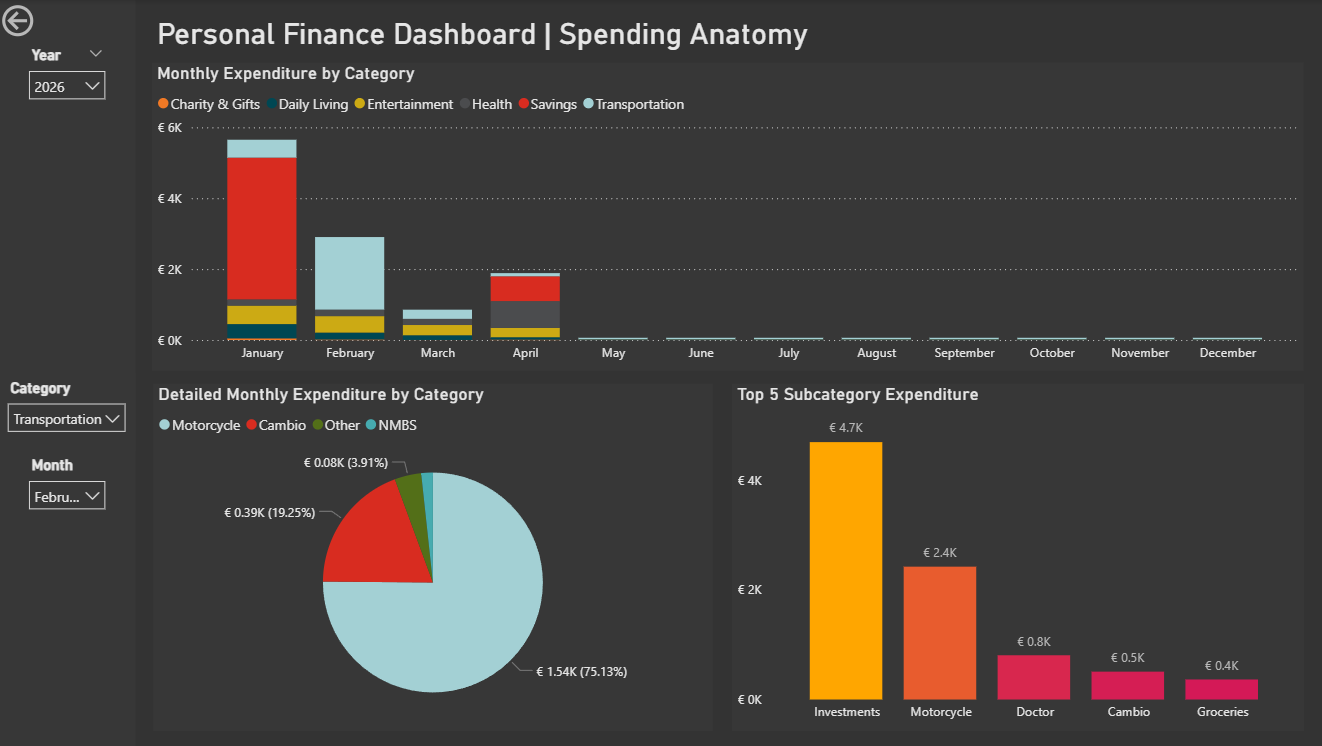

The dashboard page shown, as its layout file describes it:
{"tool":"powerbi","page":{"name":"Spending Anatomy","canvas":[1280,720],"ordinal":3},"visuals":[{"type":"shape","box":[0,0,134,719.8],"z":0},{"type":"slicer","fields":{"Values":["Full Table.Date.Variation.Date Hierarchy.Year"]},"box":[20,39.9,94.1,75.5],"z":1000},{"type":"actionButton","box":[0,0,100,40],"z":2000},{"type":"columnChart","title":"Monthly Expenditure by Category","fields":{"Category":["Full Table.Date.Variation.Date Hierarchy.Month"],"Y":["Sum(Full Table.Amount)"],"Series":["Full Table.Category"]},"box":[149.6,60.4,1111.5,297.8],"z":3000},{"type":"pieChart","title":"Detailed Monthly Expenditure by Category","fields":{"Y":["Sum(Full Table.Amount)"],"Category":["Full Table.Subcategory"]},"box":[151.1,370.6,540.2,335],"z":4000},{"type":"slicer","fields":{"Values":["Full Table.Date.Variation.Date Hierarchy.Month"]},"box":[20.5,435.5,94.1,76],"z":5000},{"type":"slicer","fields":{"Values":["Full Table.Category"]},"box":[0,360.7,133.9,74.8],"z":6000},{"type":"columnChart","title":"Top 5 Subcategory Expenditure","fields":{"Y":["Sum(Full Table.Amount)"],"Category":["Full Table.Subcategory"]},"box":[709.8,370.6,551.6,335],"z":7000},{"type":"textbox","box":[149.6,10.9,760.1,49.5],"z":8000}]}

Visuals, with their boxes in screenshot pixels (x1, y1, x2, y2), scaled from the page's 1280x720 canvas onto the 1322x746 screenshot:
shape: (left=0, top=0, right=138, bottom=745)
slicer - Full Table.Date.Variation.Date Hierarchy.Year: (left=21, top=41, right=118, bottom=120)
actionButton: (left=0, top=0, right=103, bottom=41)
"Monthly Expenditure by Category" columnChart: (left=155, top=63, right=1302, bottom=371)
"Detailed Monthly Expenditure by Category" pieChart: (left=156, top=384, right=714, bottom=731)
slicer - Full Table.Date.Variation.Date Hierarchy.Month: (left=21, top=451, right=118, bottom=530)
slicer - Full Table.Category: (left=0, top=374, right=138, bottom=451)
"Top 5 Subcategory Expenditure" columnChart: (left=733, top=384, right=1303, bottom=731)
textbox: (left=155, top=11, right=940, bottom=63)
